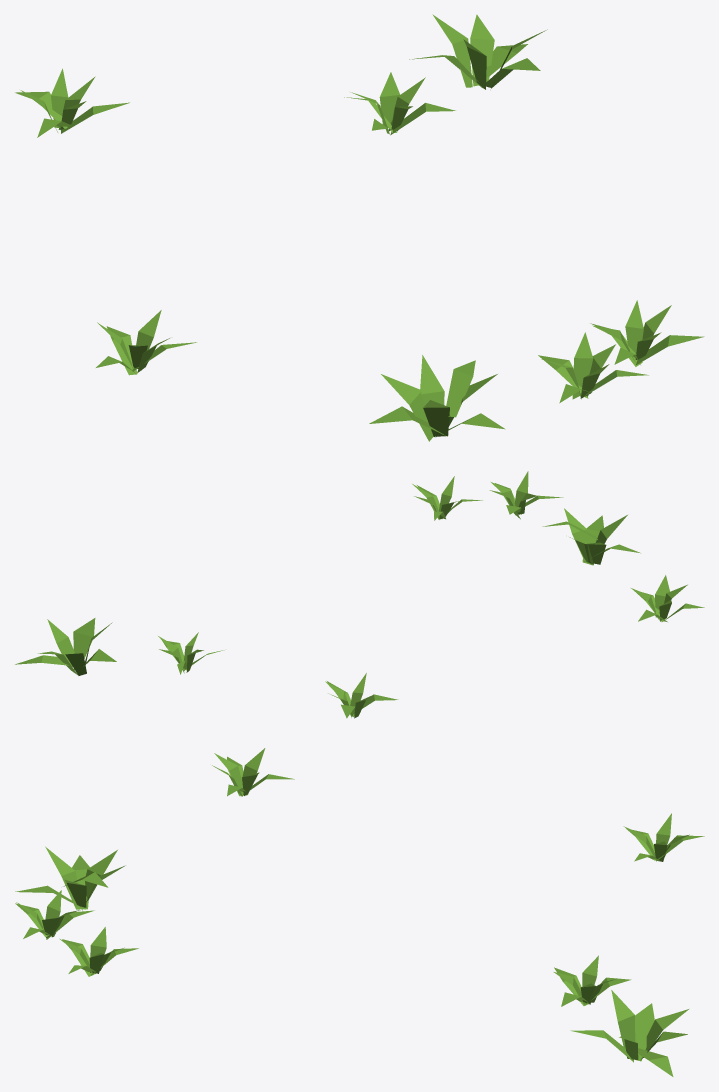
Rendered from oasis-grass.fbx.
3 renders of one model, top to bottom at view 1: azimuth 30°, elevation 25°; view 2: azimuth 150°, elevation 25°; view 3: azimuth 270°, elevation 25°, orthographic. The views are drawn at different scales.
Visible parts, largest first — view 1: oasis-grass; view 2: oasis-grass; view 3: oasis-grass.
Part boxes in pixels (x1,y1,x2,y2): oasis-grass: (15,14,704,441); oasis-grass: (15,471,704,718); oasis-grass: (15,748,704,1076).
Size of the model in its own units: 13.67 by 1.76 by 14.29.
